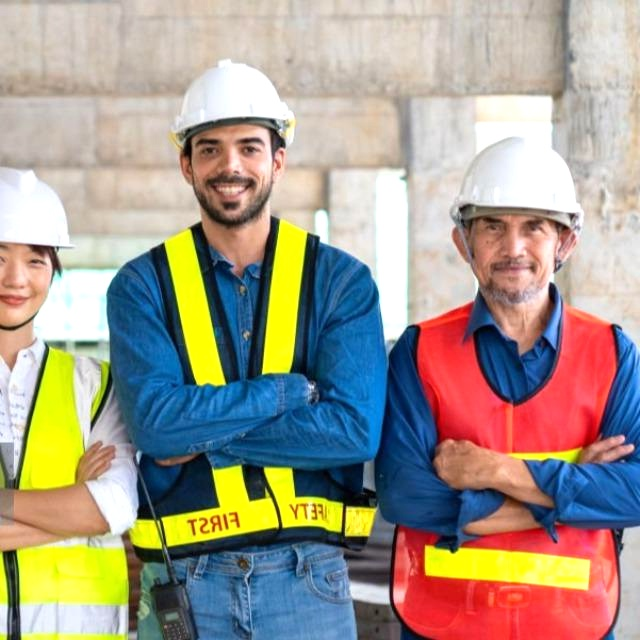Con_Casco: (447, 137, 581, 301), (166, 59, 296, 222), (0, 166, 71, 339)
Con_Chaleco: (388, 301, 632, 629), (124, 223, 369, 545), (0, 350, 129, 640)
